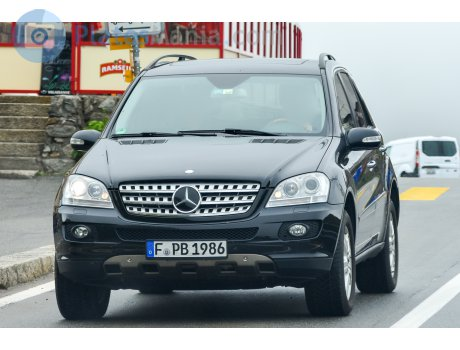License Plates: (150, 240, 226, 254)
